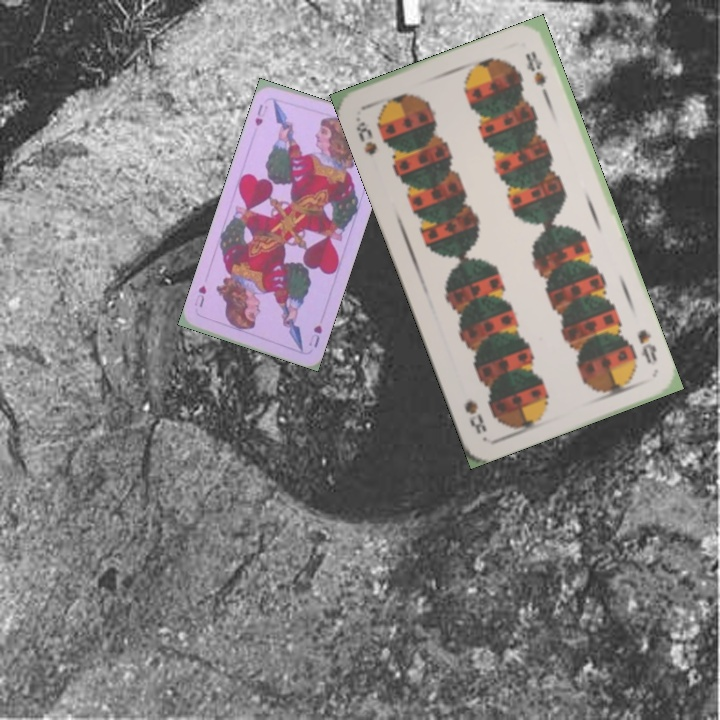HU: (305, 321, 325, 350), (251, 100, 270, 129)
S8: (351, 112, 380, 158), (633, 325, 660, 368)
